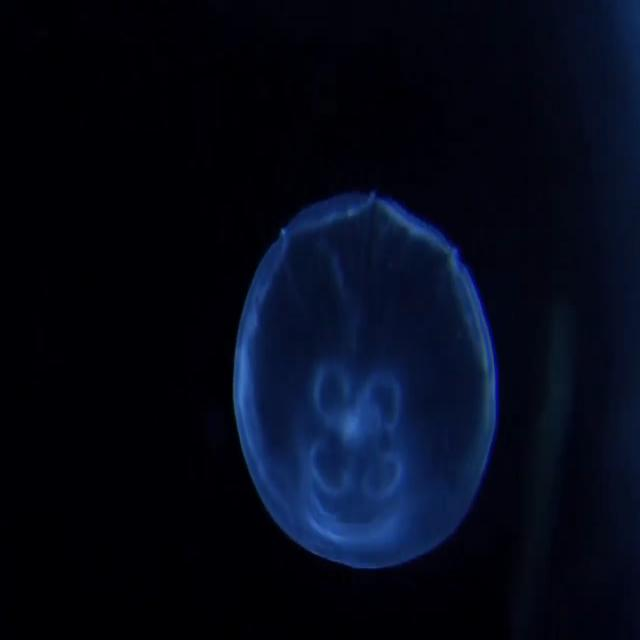Moon-jellyfish: (230, 191, 501, 573)
